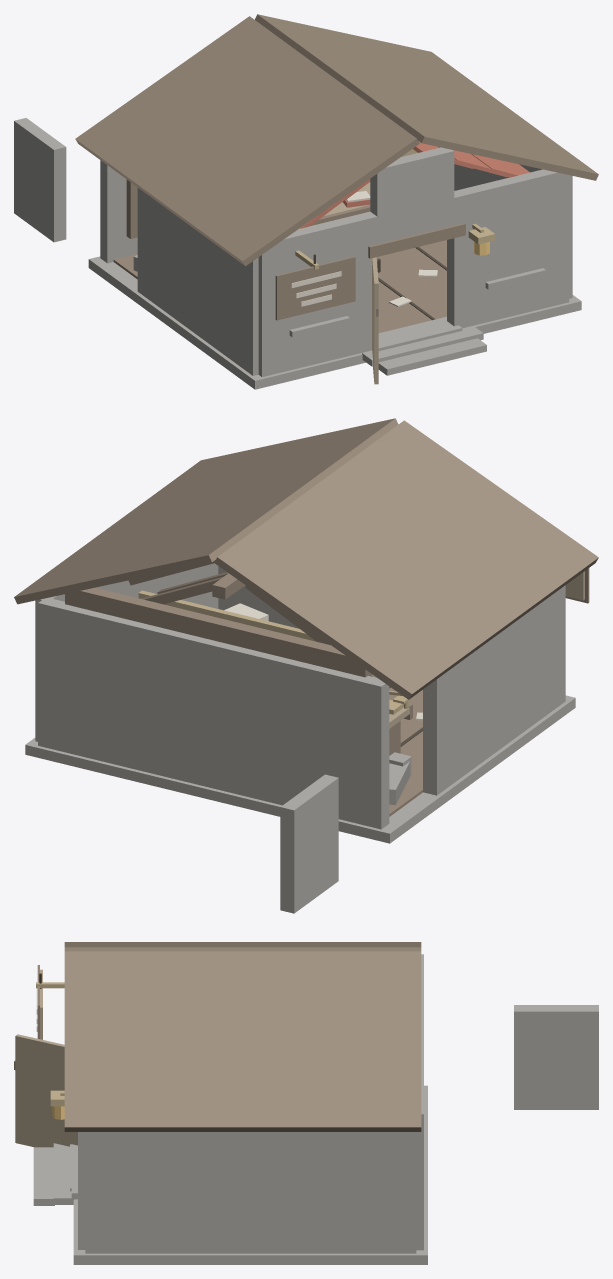
Rendered from post-office.glb.
The picture shows the model from 3 angles, top to bottom: view 1: azimuth 30°, elevation 25°; view 2: azimuth 150°, elevation 25°; view 3: azimuth 270°, elevation 25°; orthographic projection. The views are drawn at different scales.
Visible parts, largest first — view 1: office_roof_front, office_roof_front.001, office_front_pier.001, office_wall_left, office_front_pier, office_front_lintel, office_wall_left_broken, office_floor, office_plinth, office_sign_edge, office_wall_rear, office_step_1 (+9 smaller); view 2: office_roof_front, office_wall_rear, office_roof_front.001, office_wall_left, office_plinth, office_pigeonhole_case, office_wall_left_broken, office_wall_right, office_floor, office_grille_head, office_front_pier.001, office_rafter_3.001 (+1 smaller); view 3: office_roof_front.001, office_wall_right, office_wall_left_broken, office_plinth, office_door_leaf, office_roof_front, office_wall_rear, office_step_1, office_step_0, office_front_pier.001.
Boxes of the visible parts, x1,y1,x2,y2 form: office_roof_front: (75, 16, 419, 266); office_roof_front.001: (255, 14, 598, 180); office_front_pier.001: (447, 169, 569, 328); office_wall_left: (137, 188, 258, 375); office_front_pier: (258, 211, 377, 377); office_front_lintel: (370, 147, 454, 243); office_wall_left_broken: (14, 118, 66, 242); office_floor: (113, 240, 446, 332); office_plinth: (88, 256, 581, 389); office_sign_edge: (275, 256, 355, 320); office_wall_rear: (100, 160, 369, 263); office_step_1: (378, 338, 486, 375); office_roof_front: (214, 420, 598, 699); office_wall_rear: (38, 597, 389, 829); office_roof_front.001: (14, 418, 398, 604); office_wall_left: (423, 585, 565, 795); office_plinth: (25, 695, 575, 843); office_pigeonhole_case: (65, 587, 372, 677); office_wall_left_broken: (280, 774, 338, 913); office_wall_right: (35, 563, 218, 741); office_floor: (372, 674, 422, 816); office_grille_head: (138, 590, 316, 641); office_front_pier.001: (218, 566, 299, 628); office_rafter_3.001: (141, 576, 223, 604); office_roof_front.001: (64, 951, 421, 1131); office_wall_right: (85, 1132, 416, 1253); office_wall_left_broken: (514, 1005, 598, 1109); office_plinth: (73, 1085, 427, 1264); office_door_leaf: (15, 1034, 77, 1147); office_roof_front: (64, 942, 421, 951); office_wall_rear: (416, 954, 423, 1250); office_step_1: (33, 1147, 54, 1205); office_step_0: (53, 1143, 74, 1204); office_front_pier.001: (78, 1132, 85, 1249).
Size of the model in its own units: 9.28 by 5.5 by 12.38.
